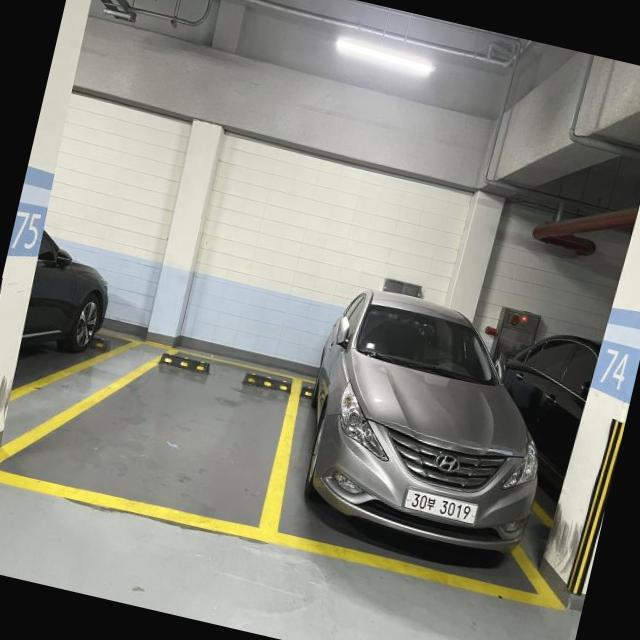car: (266, 262, 604, 614)
free: (9, 312, 307, 539)
